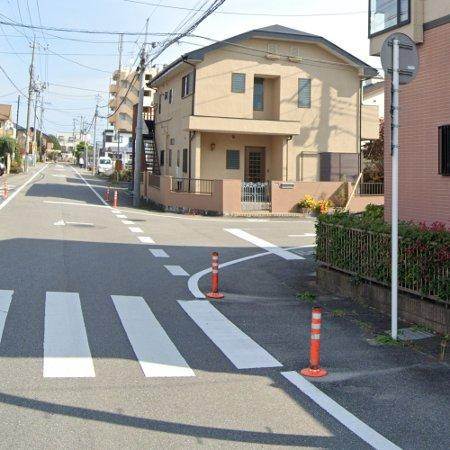crosswalks: (0, 288, 289, 382)
